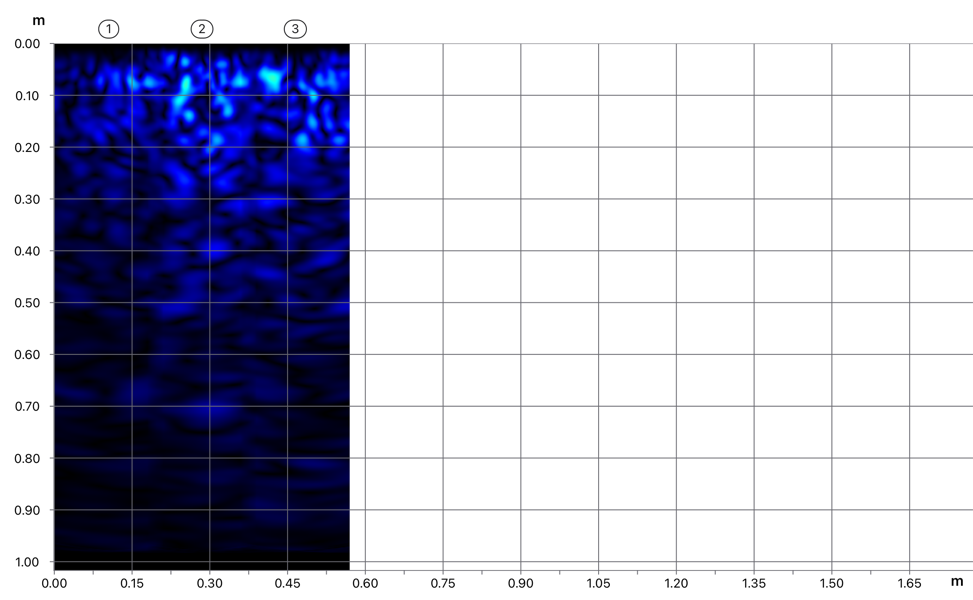crop: (0, 0, 351, 329)
